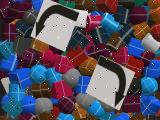Left: (30, 0, 80, 52)
Right: (85, 55, 135, 111)
